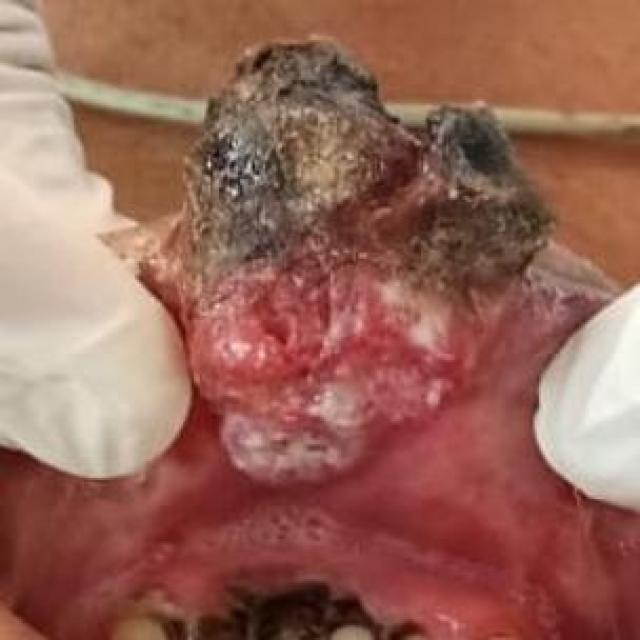cancer-detection: (122, 34, 614, 495)
processing_area: (0, 35, 638, 638)
